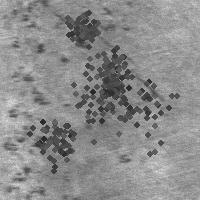rolled-in_scale: (45, 40, 153, 148), (2, 1, 54, 197), (98, 63, 184, 149), (49, 6, 131, 63), (23, 109, 81, 167), (81, 35, 137, 91), (58, 4, 104, 50), (90, 63, 130, 103)
